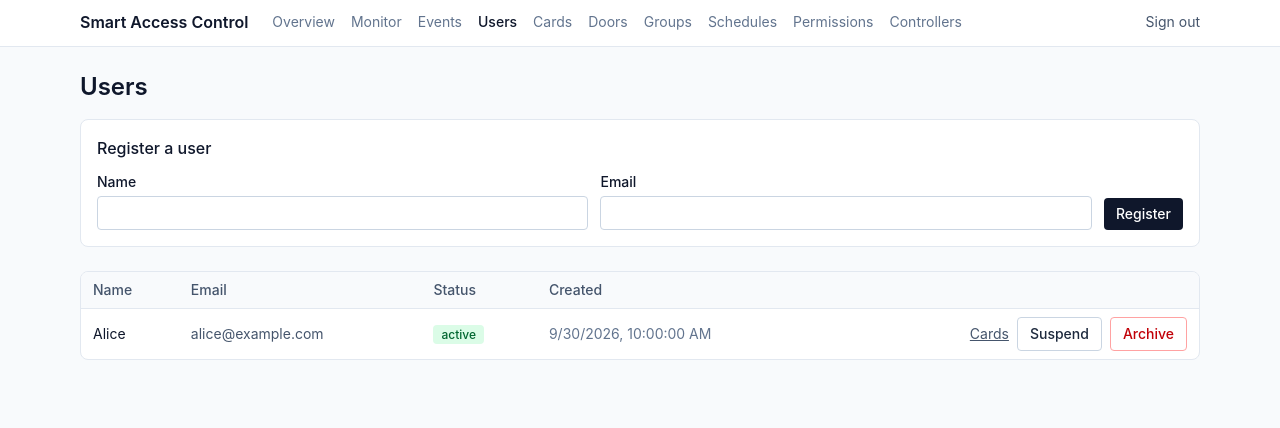
users page › registers a user and shows it in the refreshed list
Expected: the text "Alice" is shown, [81, 308, 179, 359]
Type "Bob" into the field labelled "Name". click: (343, 213)
box: [97, 196, 588, 230]
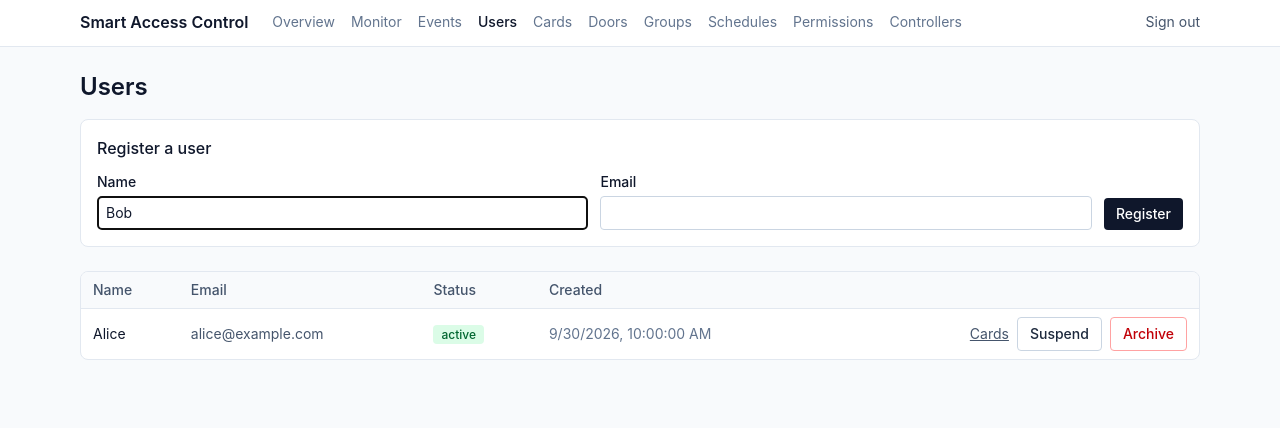
Type "bob@example.com" into the field labelled "Email". click: (846, 213)
box: [600, 196, 1092, 230]
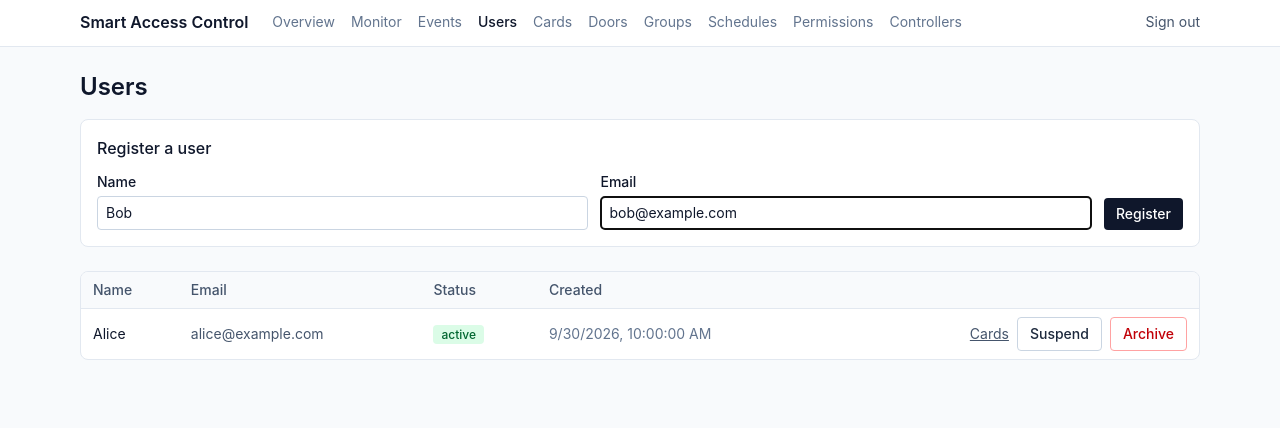
Click the button "Register". click: (1143, 214)
box: [1104, 198, 1183, 230]
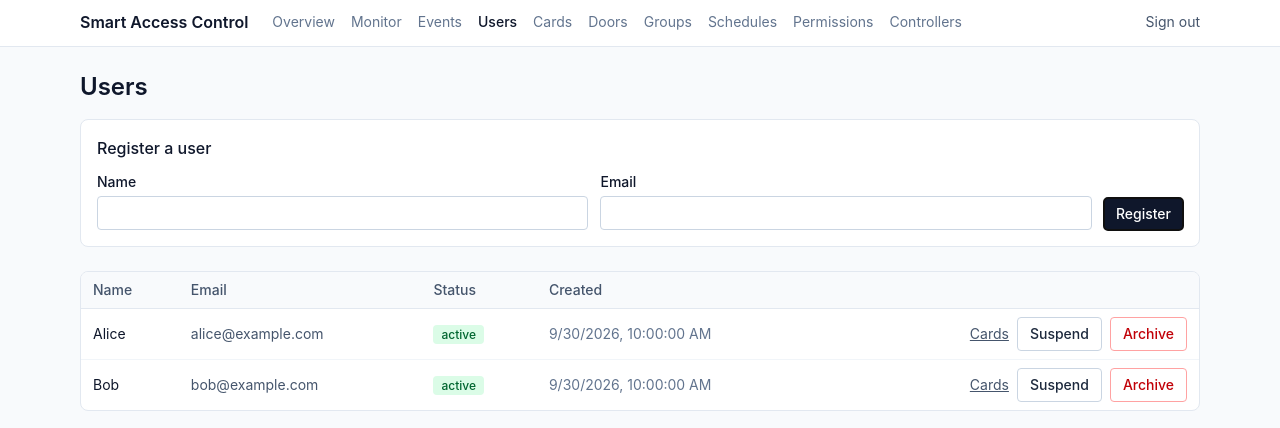
Now the text "Bob" is shown, box [81, 360, 179, 410]
Now the field labelled "Name" is empty, box [97, 196, 588, 230]
